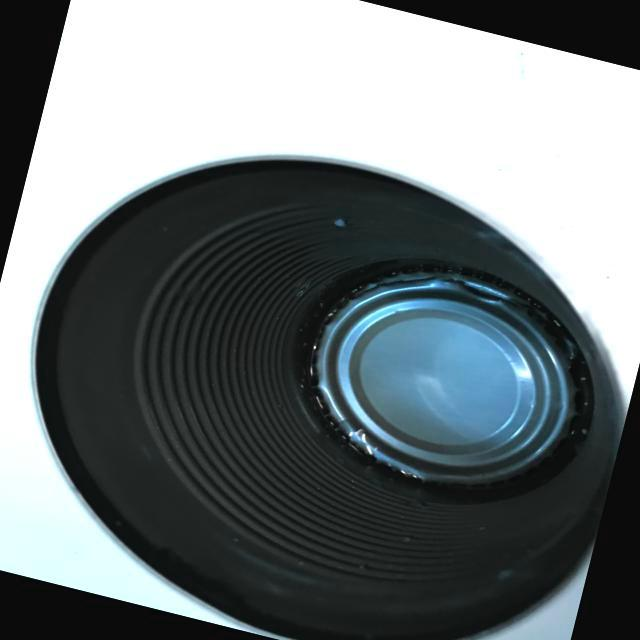metal: (0, 79, 640, 640)
